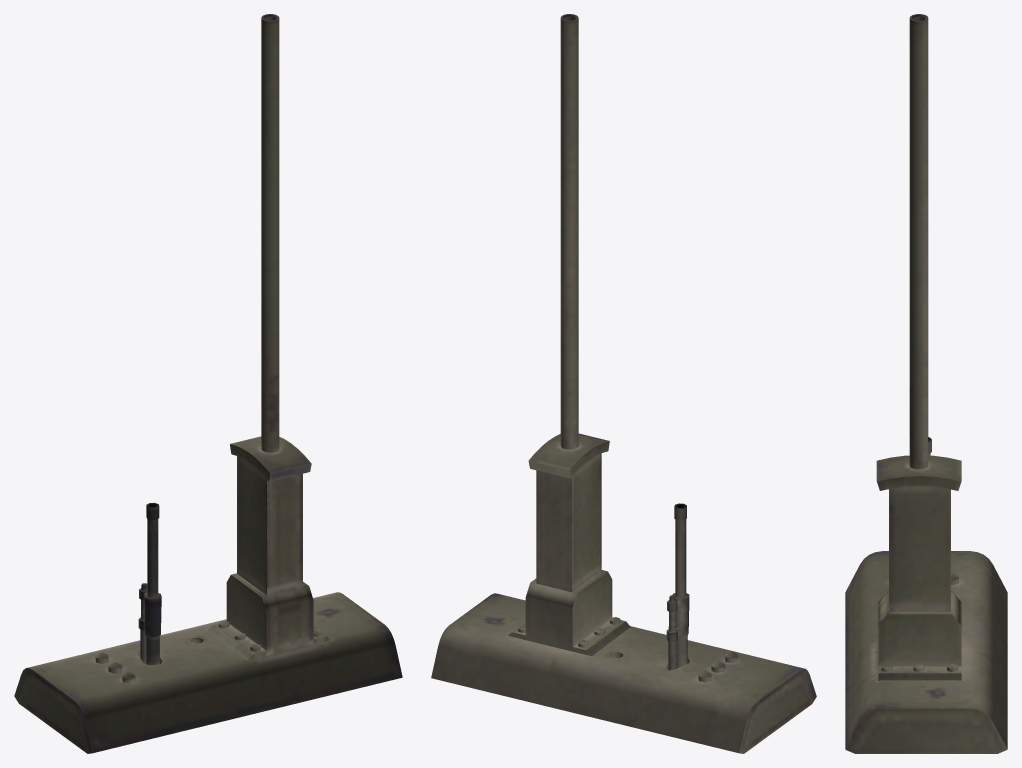
The model's file is Gun_03.glb.
3 views of the same model, side by side, from view 1: azimuth 30°, elevation 25°; view 2: azimuth 150°, elevation 25°; view 3: azimuth 270°, elevation 25° (orthographic). The views are drawn at different scales.
Visible parts, largest first — view 1: set_0_group_0; view 2: set_0_group_0; view 3: set_0_group_0.
Part boxes in pixels (bbox=[...]): set_0_group_0: bbox=[14, 14, 402, 753]; set_0_group_0: bbox=[431, 14, 816, 753]; set_0_group_0: bbox=[845, 14, 1007, 753].
Bounding box in the file's own units: 0.673 × 1.37 × 0.2935.
Materials: 1 (1 with a texture image).
